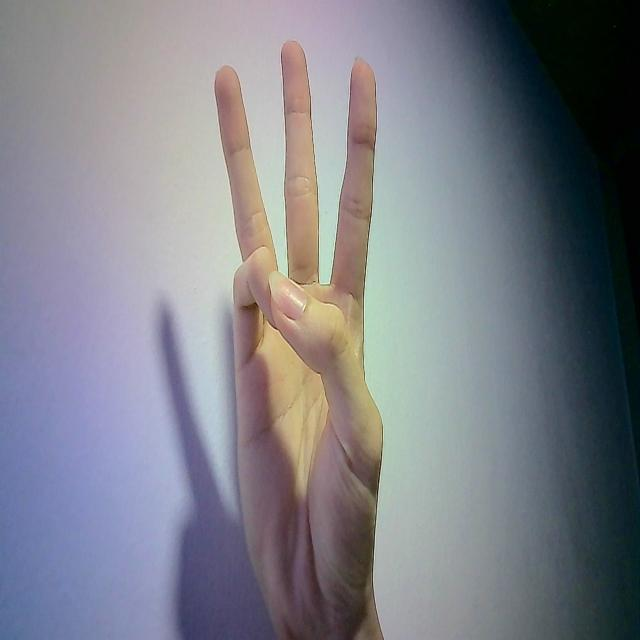W: (193, 27, 413, 640)
